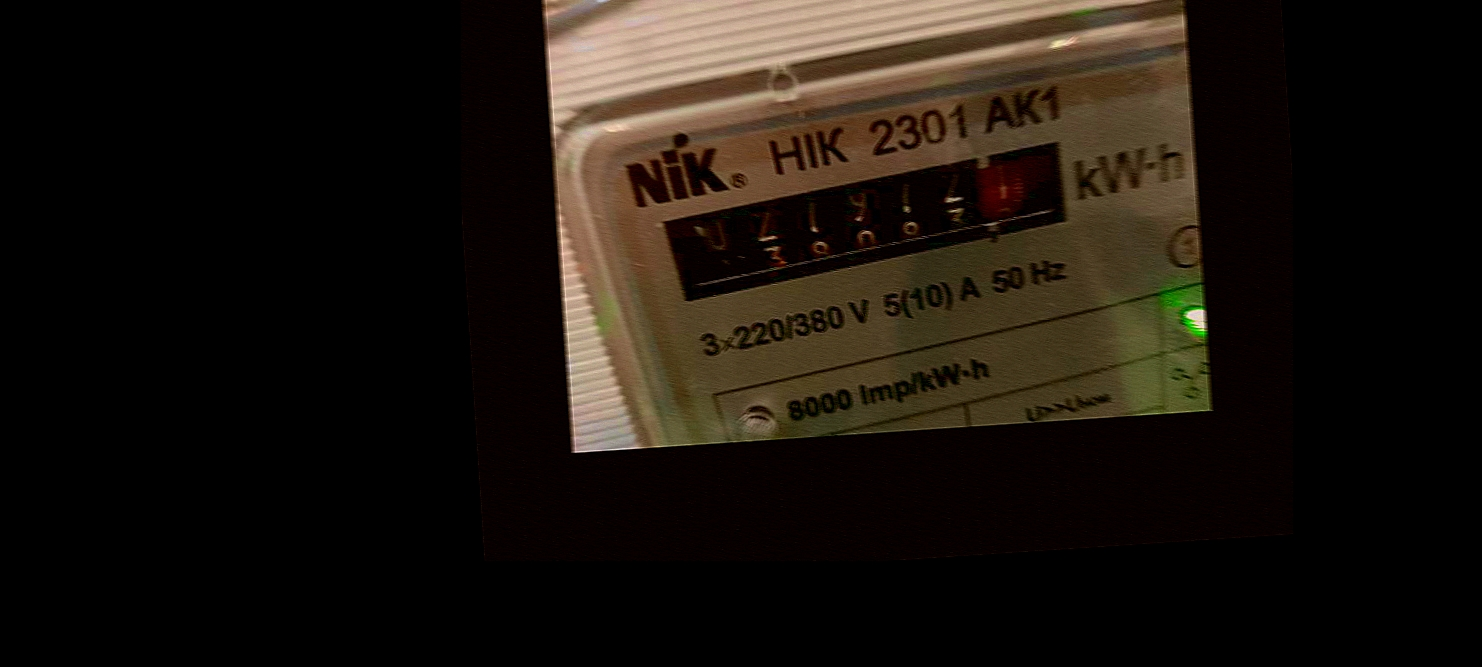0: (701, 214, 731, 252)
1: (991, 159, 1015, 203)
2: (749, 202, 781, 243), (937, 166, 967, 204)
7: (891, 174, 919, 217), (799, 196, 824, 235)
9: (845, 186, 873, 223)
screen: (643, 129, 1104, 313)
